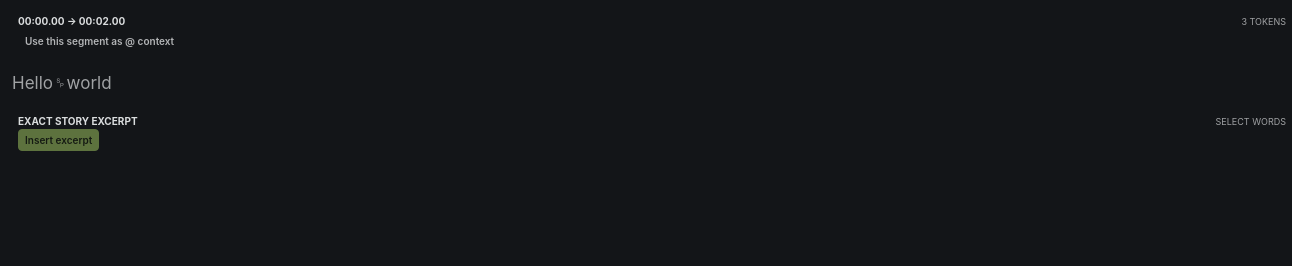
Test: CreatorTranscriptExcerpt › preserves token evidence but blocks the stale target until Narrative is reselected
Click the button with aria-label "Select token 1 · Hello".
click(32, 83)  # box [12,67,53,100]
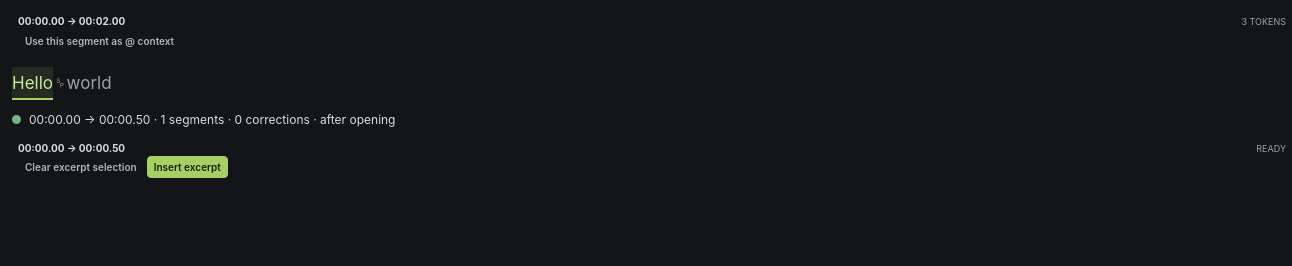
Click the button with aria-label "Select token 3 · world".
click(89, 83)  # box [67,67,112,100]
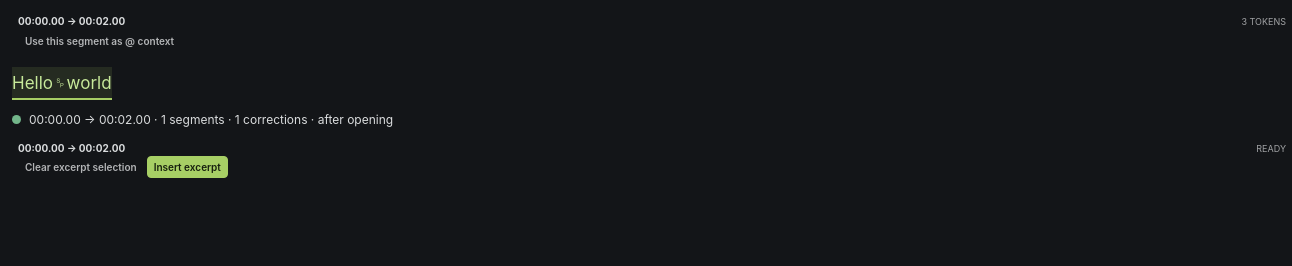
Click the button "Insert excerpt".
click(187, 168)  # box [147,156,228,178]
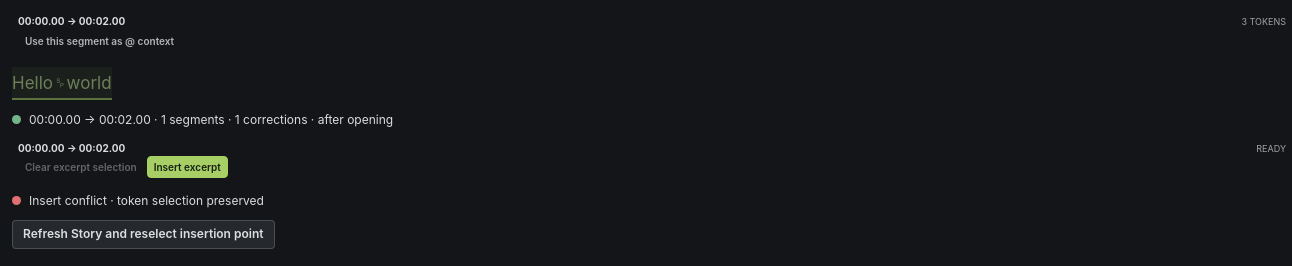
Expected: the text "Insert conflict · token selection preserved" is shown, [29,194,264,208]
Expected: the button with aria-label "Selected token 1 · Hello" is disabled, [12,67,53,100]
Click the button "Refresh Story and reselect insertion point".
click(143, 235)  # box [12,220,274,249]
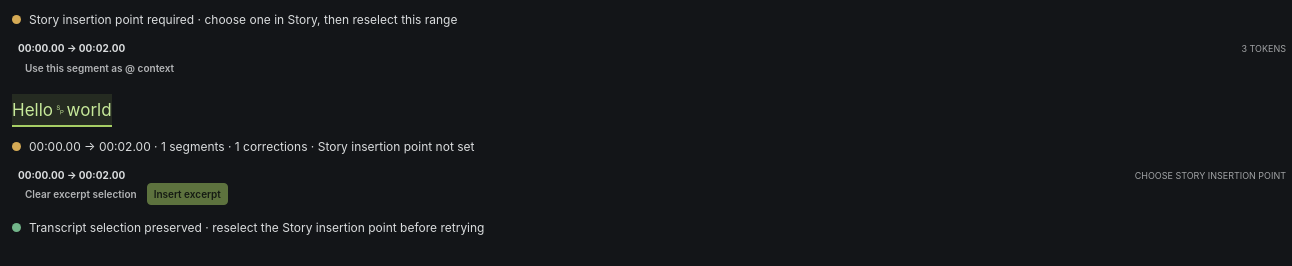
Expected: the text "Transcript selection preserved · reselect the Story insertion point" is shown, [29,220,484,236]
Expected: the text "1 corrections · Story insertion point not set" is shown, [29,139,474,154]
Expected: the button "Insert excerpt" is disabled, [147,184,228,206]
